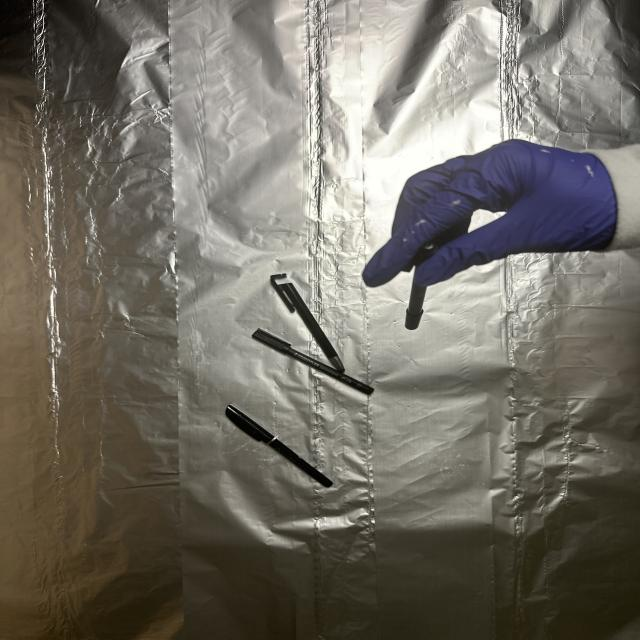gloves_contaminated: (363, 140, 619, 286)
